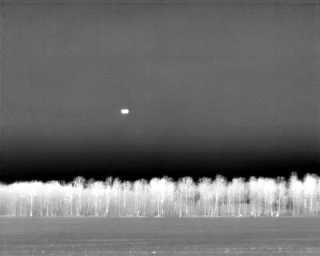DRONE: (117, 104, 134, 119)
